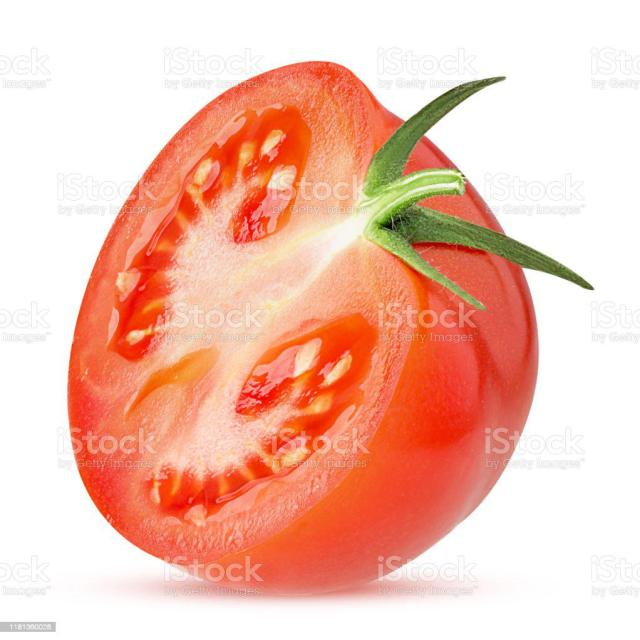Tomato: (60, 57, 531, 592)
